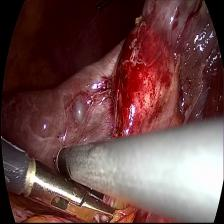Grasper: (26, 160, 120, 224)
Hook: (51, 144, 71, 170)
